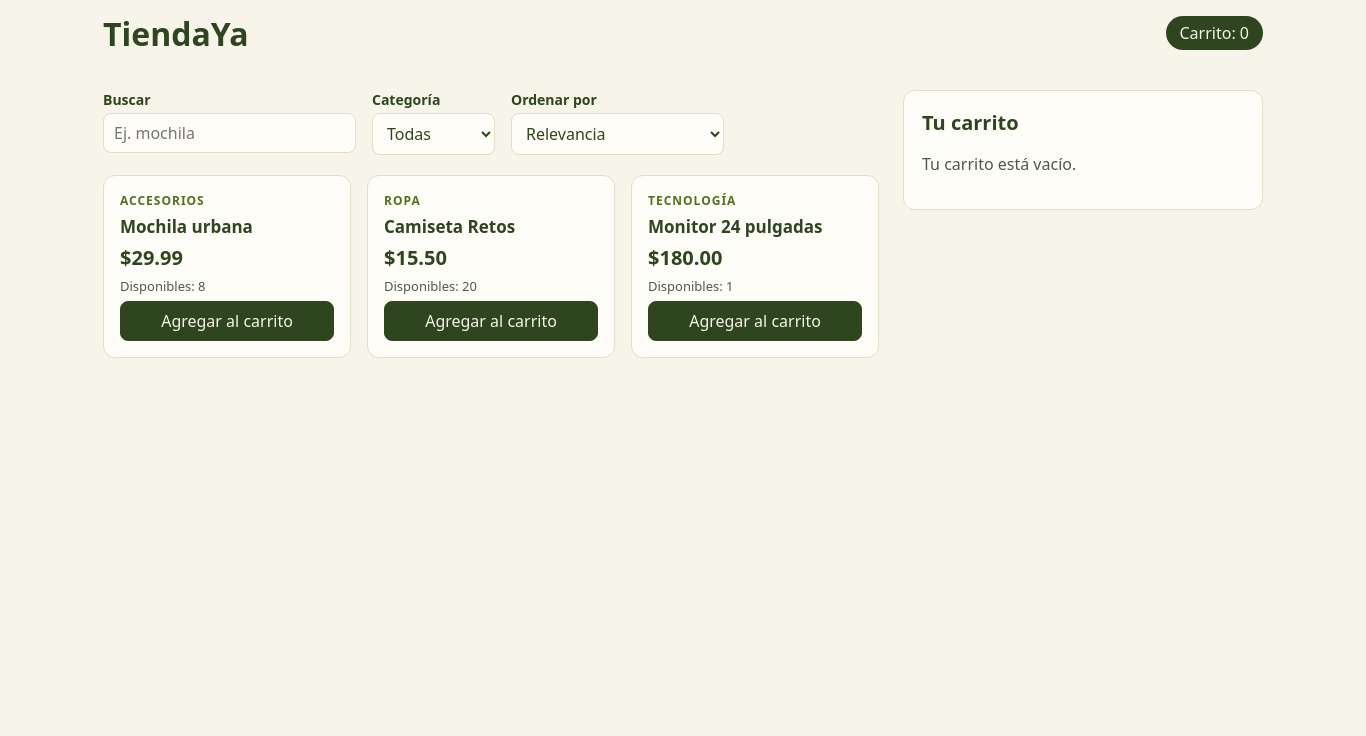
Test case: Tienda › si el pago se rechaza, el carrito se conserva
Click the button "Agregar al carrito" below "Disponibles: 20". click: (491, 321)
box: [384,301,598,341]
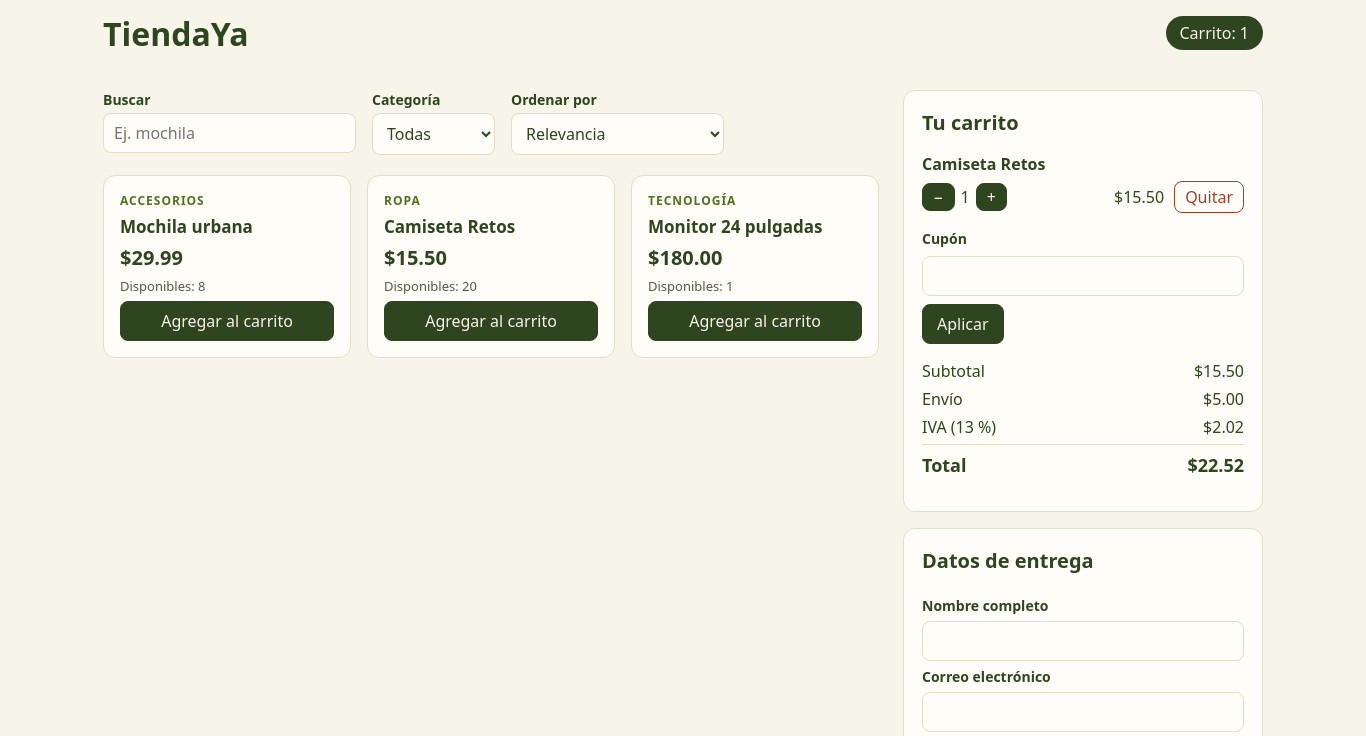
Type "Ana López" into the field labelled "Nombre completo". click: (1083, 641)
box: [922,621,1244,661]
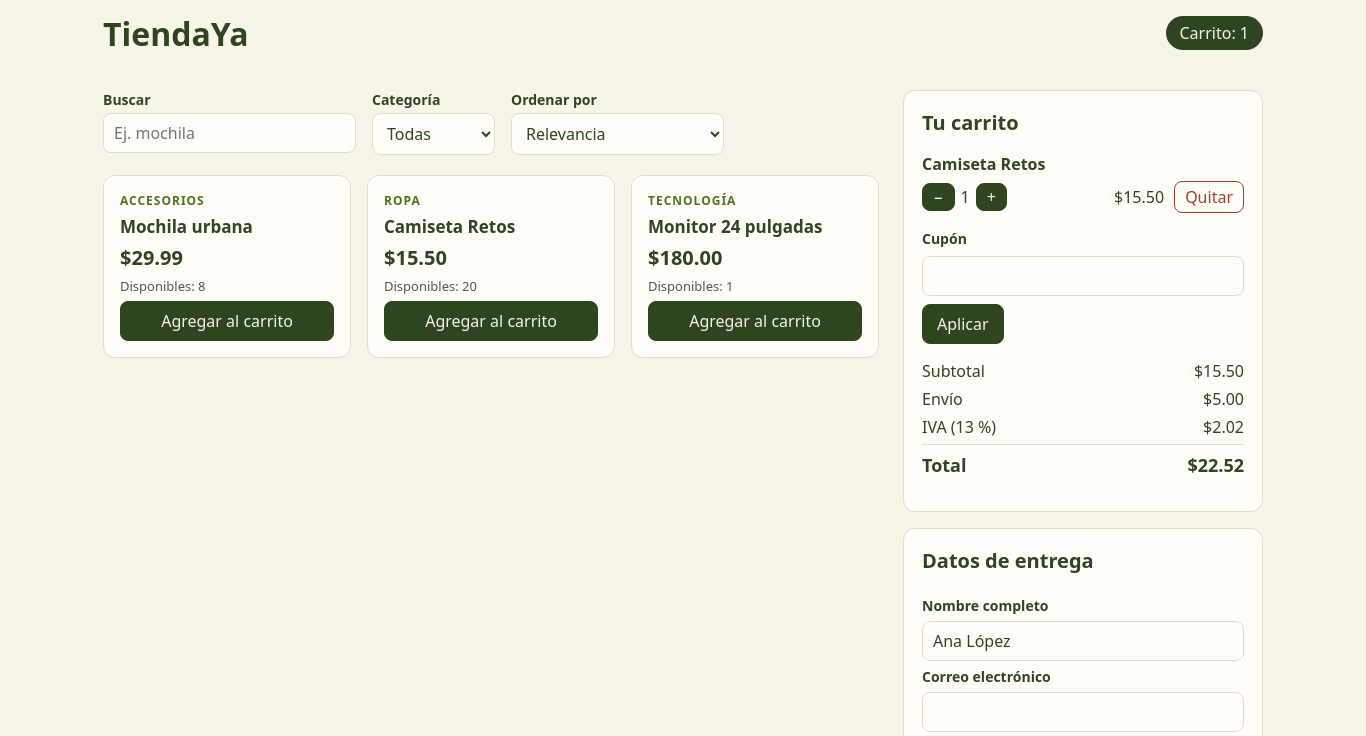
Type "ana@correo.com" into the field labelled "Correo electrónico". click: (1083, 712)
box: [922,692,1244,732]
(page scrolled)
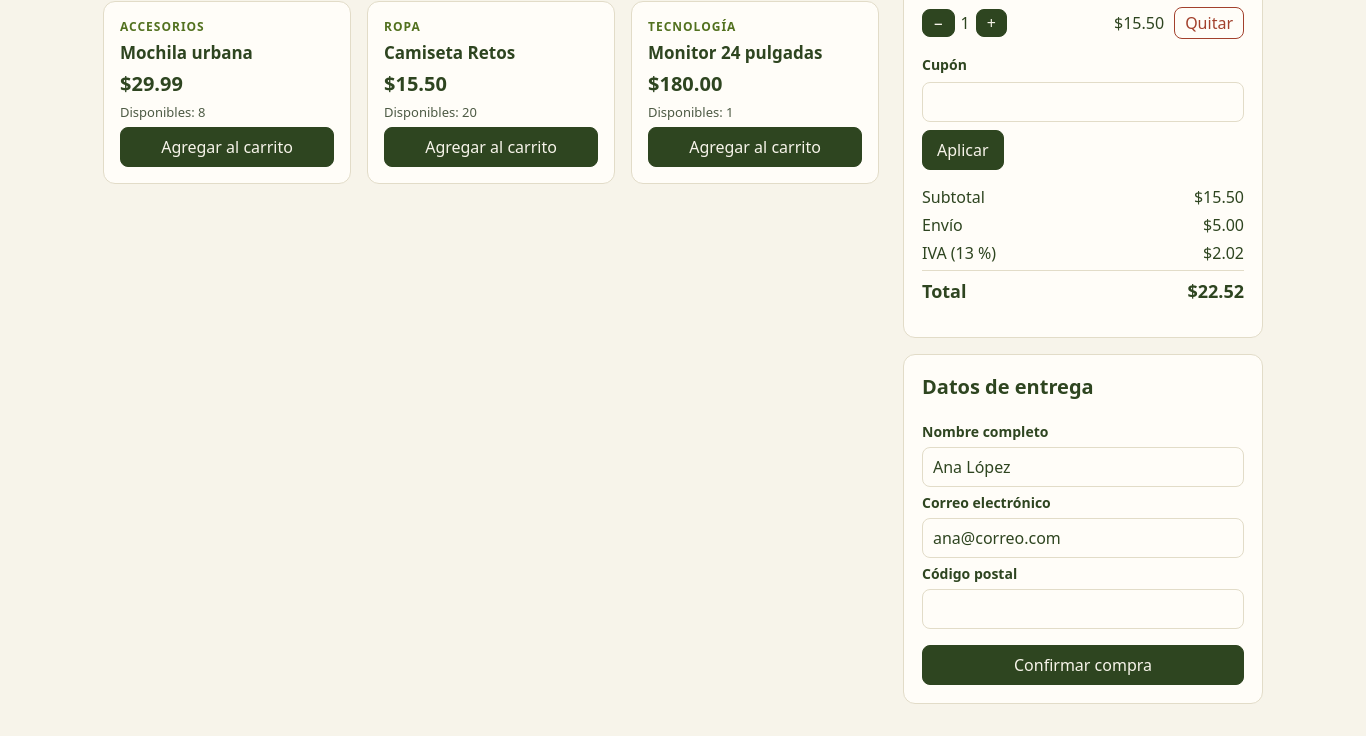
Type "1101" into the field labelled "Código postal". click: (1083, 609)
box: [922,589,1244,629]
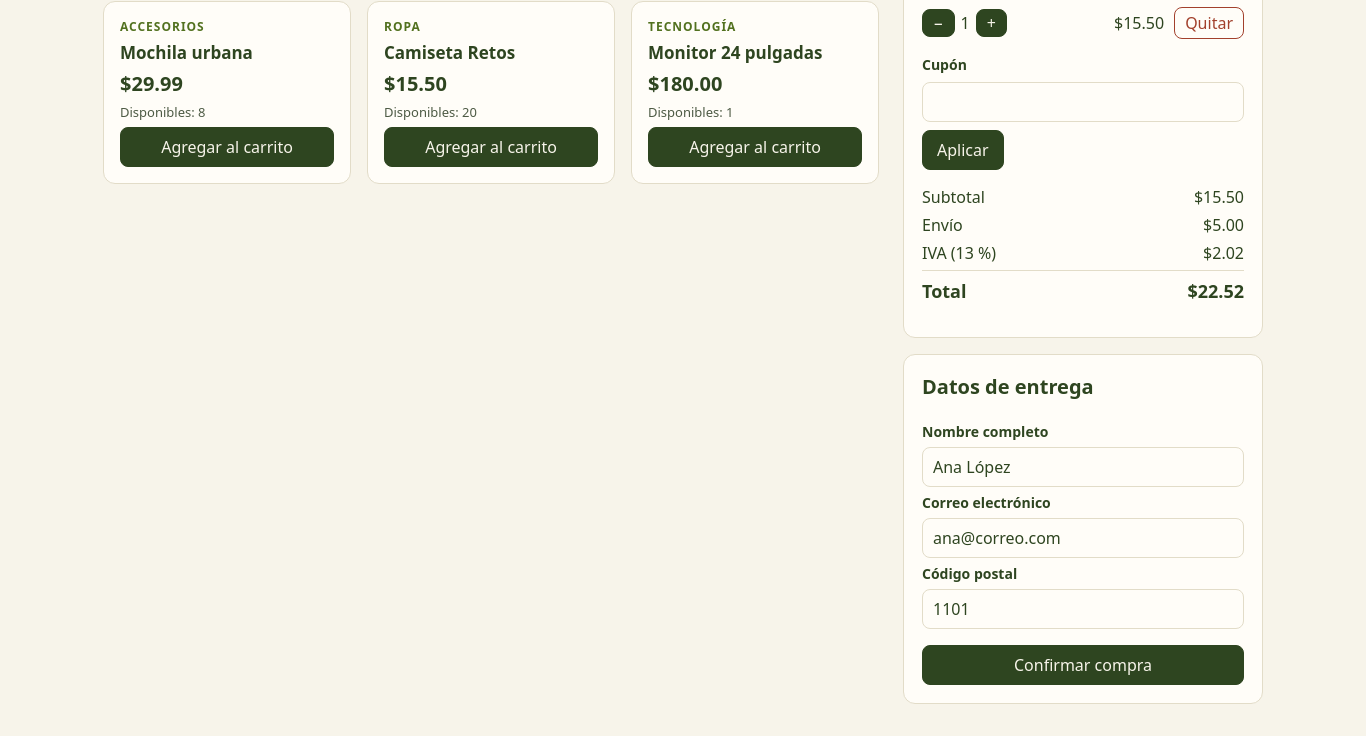
Click the button "Confirmar compra". click: (1083, 665)
box: [922,645,1244,685]
(page scrolled)
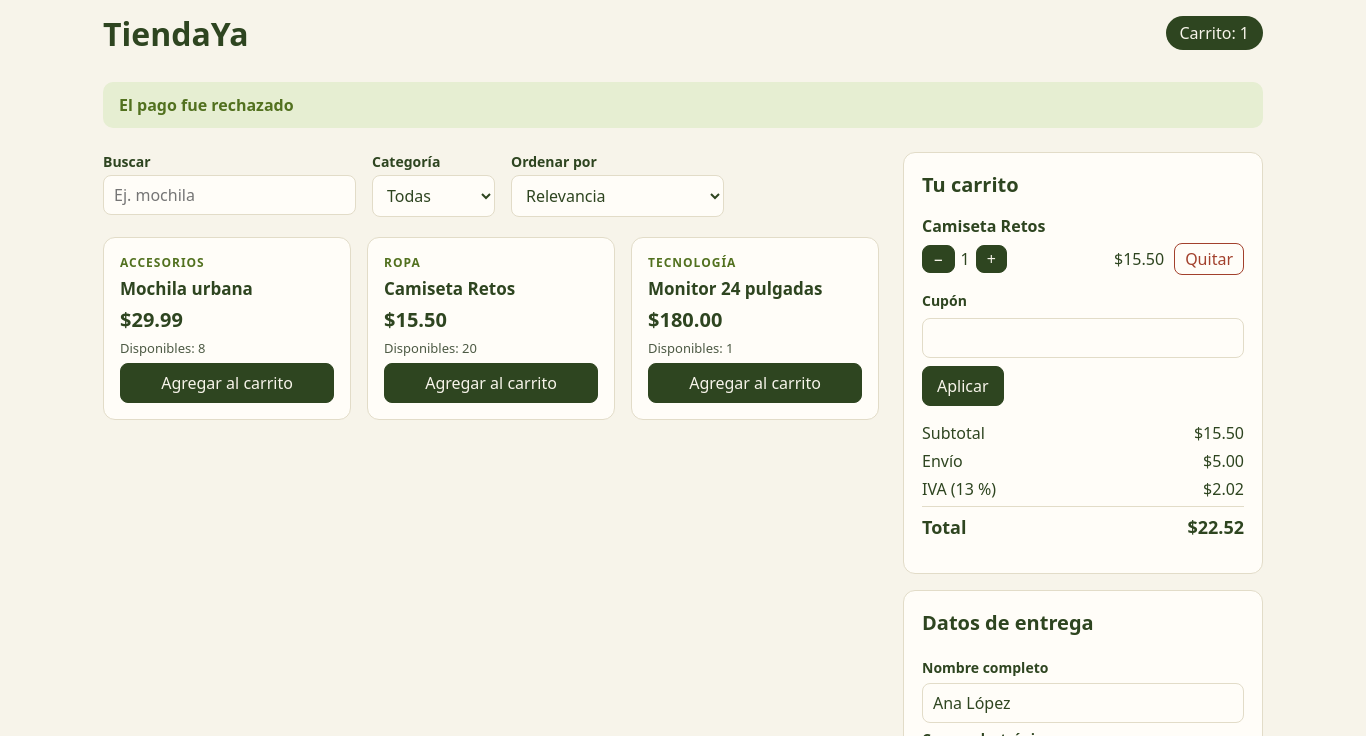
Now the text "Carrito: 1" is shown, box [1166,16,1263,50]
Now the message reads "El pago fue rechazado", box [119,94,294,116]
